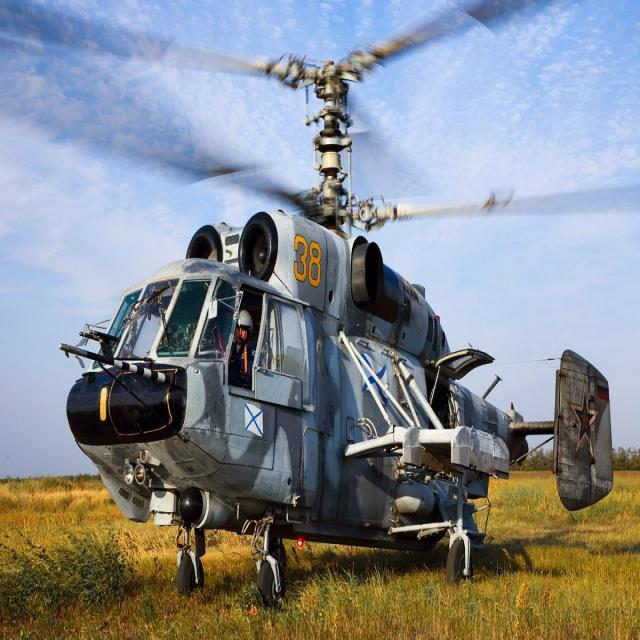MIL_HELO: (46, 2, 636, 592)
